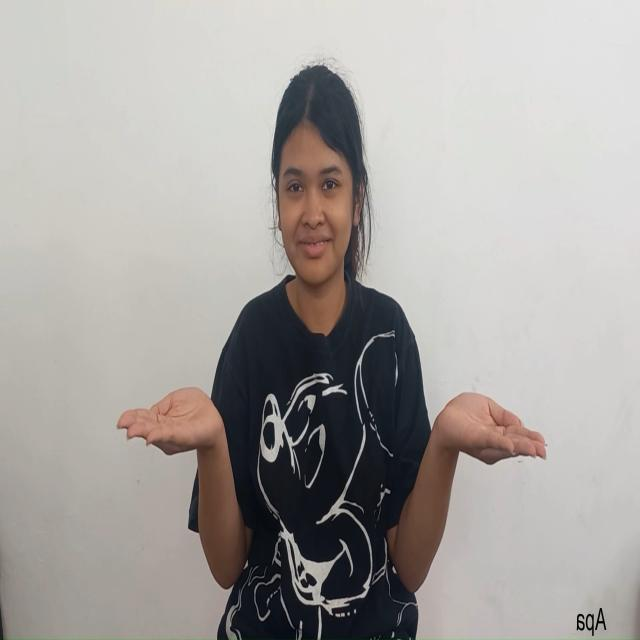Apa -BISINDO-: (99, 372, 555, 600)
